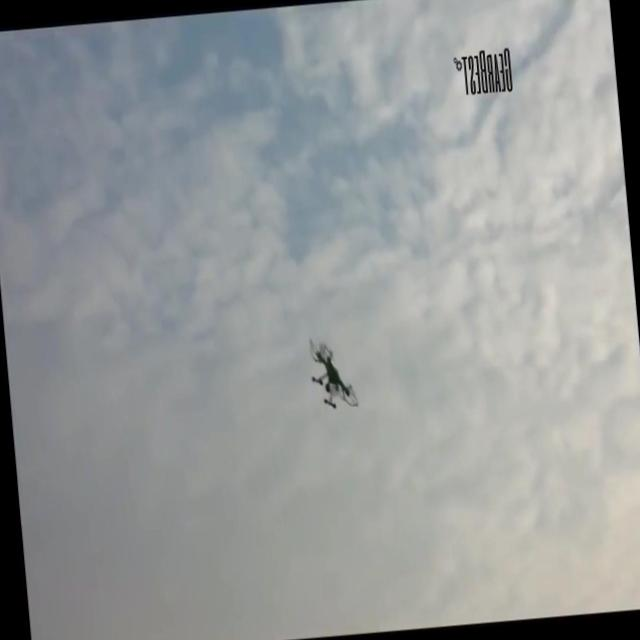drone: (307, 337, 361, 412)
